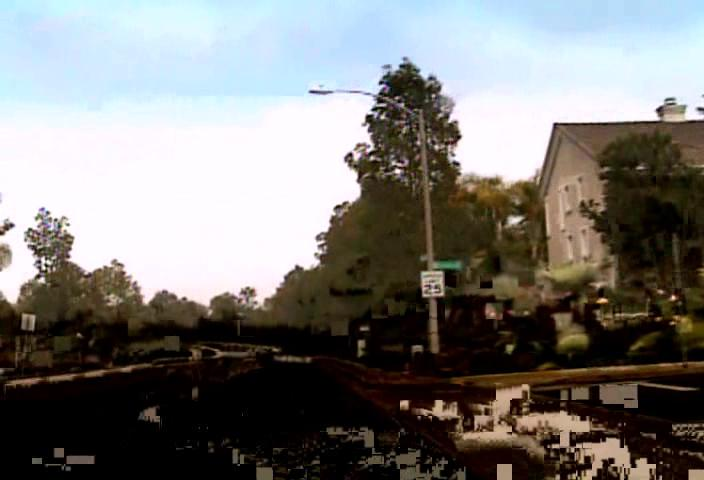speedLimit25: (420, 269, 444, 297)
